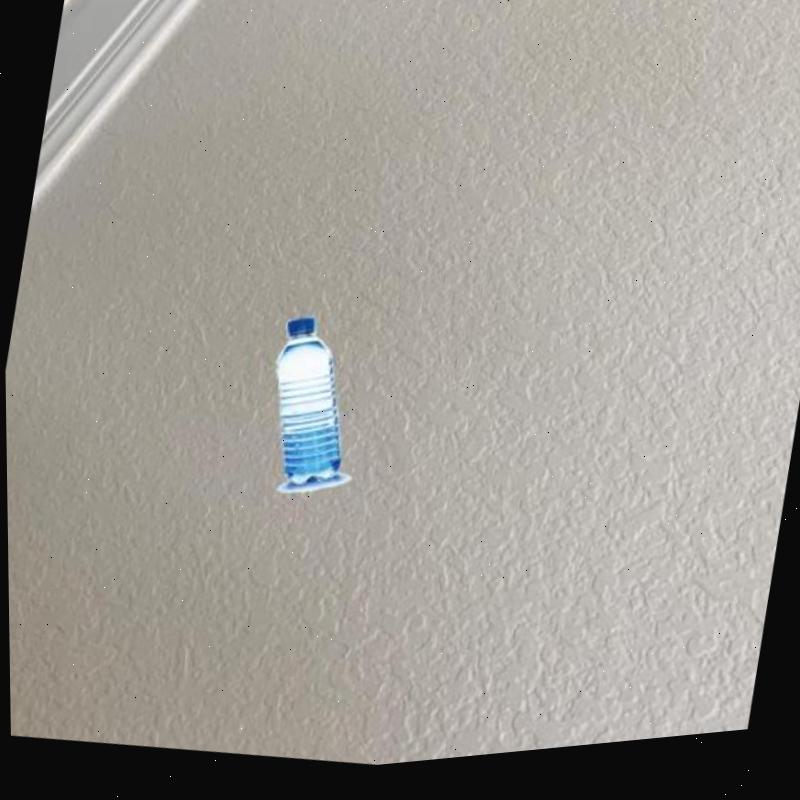botella: (250, 315, 365, 498)
